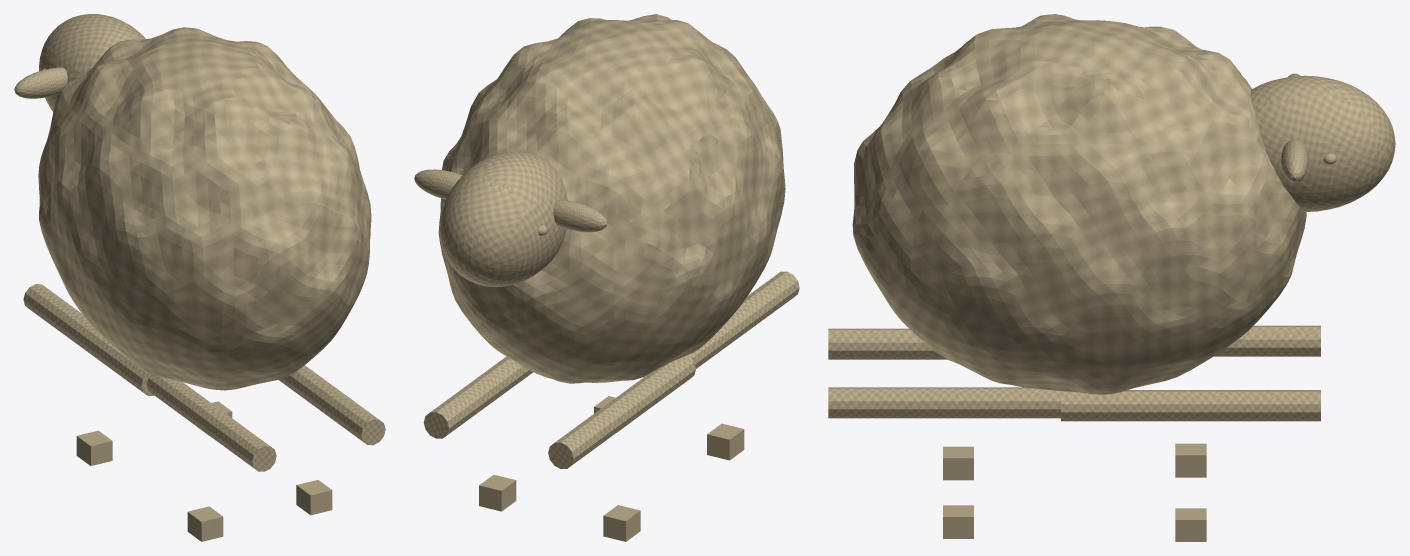
Rendered from sheep_pbr_review.glb.
3 renders of one model, left to right at view 1: azimuth 30°, elevation 25°; view 2: azimuth 150°, elevation 25°; view 3: azimuth 270°, elevation 25°, orthographic. The views are drawn at different scales.
Visible parts, largest first — view 1: world, head_snout, leg_HL, leg_FL, leg_HR, ear_-1, leg_FL_hoof, leg_HR_hoof, leg_HL_hoof; view 2: world, head_snout, leg_FL, leg_FR, leg_HL, ear_-1, leg_FR_hoof, leg_FL_hoof, leg_HL_hoof, ear_1; view 3: world, head_snout, leg_FR, leg_HR, leg_HL, leg_FL, leg_FL_hoof, leg_FR_hoof, leg_HL_hoof, leg_HR_hoof, ear_1.
Boxes of the visible parts, x1=… form: world: x1=38, y1=27, x2=371, y2=390; head_snout: x1=39, y1=14, x2=145, y2=111; leg_HL: x1=147, y1=374, x2=276, y2=471; leg_FL: x1=23, y1=284, x2=153, y2=395; leg_HR: x1=278, y1=365, x2=385, y2=445; ear_-1: x1=14, y1=67, x2=67, y2=98; leg_FL_hoof: x1=76, y1=430, x2=112, y2=465; leg_HR_hoof: x1=296, y1=480, x2=332, y2=515; leg_HL_hoof: x1=187, y1=506, x2=223, y2=541; world: x1=438, y1=14, x2=785, y2=383; head_snout: x1=440, y1=151, x2=567, y2=286; leg_FL: x1=548, y1=355, x2=695, y2=468; leg_FR: x1=423, y1=356, x2=533, y2=438; leg_HL: x1=688, y1=271, x2=799, y2=368; ear_-1: x1=553, y1=199, x2=607, y2=232; leg_FR_hoof: x1=479, y1=474, x2=516, y2=511; leg_FL_hoof: x1=603, y1=505, x2=640, y2=541; leg_HL_hoof: x1=707, y1=423, x2=744, y2=460; ear_1: x1=414, y1=169, x2=462, y2=199; world: x1=852, y1=14, x2=1306, y2=394; head_snout: x1=1250, y1=75, x2=1395, y2=211; leg_FR: x1=1061, y1=390, x2=1320, y2=421; leg_HR: x1=828, y1=387, x2=1060, y2=418; leg_HL: x1=828, y1=328, x2=946, y2=359; leg_FL: x1=1214, y1=325, x2=1320, y2=356; leg_FL_hoof: x1=1175, y1=443, x2=1206, y2=477; leg_FR_hoof: x1=1175, y1=508, x2=1206, y2=541; leg_HL_hoof: x1=943, y1=446, x2=973, y2=480; leg_HR_hoof: x1=943, y1=505, x2=973, y2=538; ear_1: x1=1281, y1=139, x2=1308, y2=182.
Size of the model in its own units: 0.9694 by 1.5 by 1.64.
Materials: 1 (1 with a texture image).
